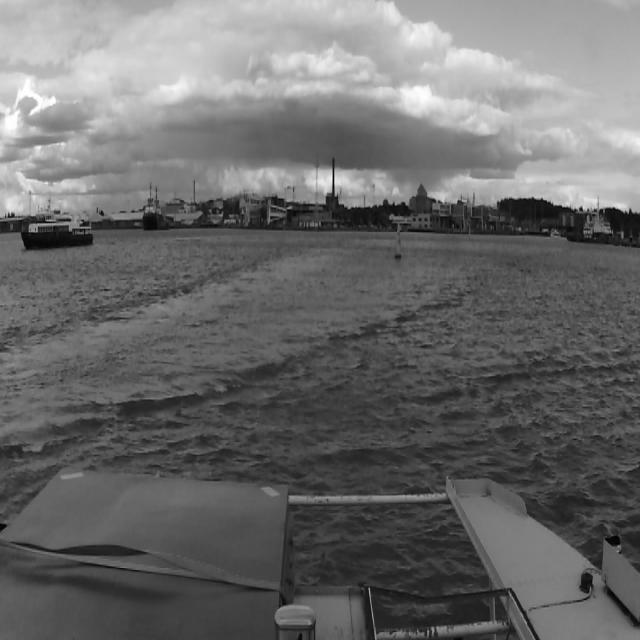buoy: (394, 222, 402, 260)
ship: (21, 208, 93, 250), (562, 206, 616, 247), (157, 190, 217, 222), (144, 184, 160, 235)
